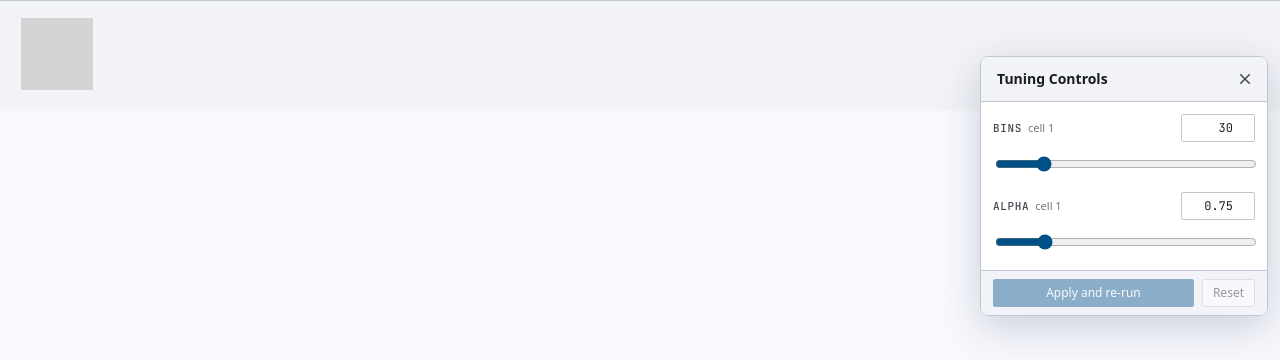
after applying › keeps the plot on screen instead of replacing it with a receipt
Replace the text in the number field named "BINS" with "40": (1218, 128) [1181,114,1255,142]
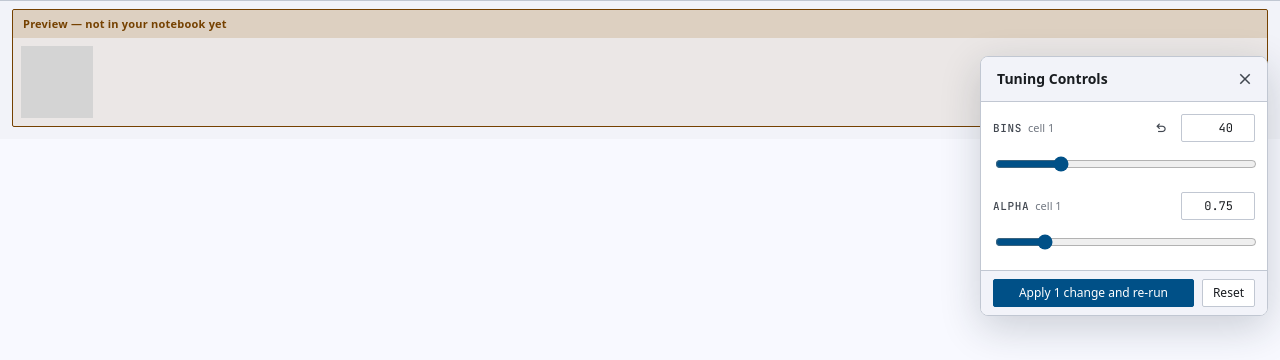
Click the button "Apply 1 change and re-run": (1093, 293) [993,279,1194,307]
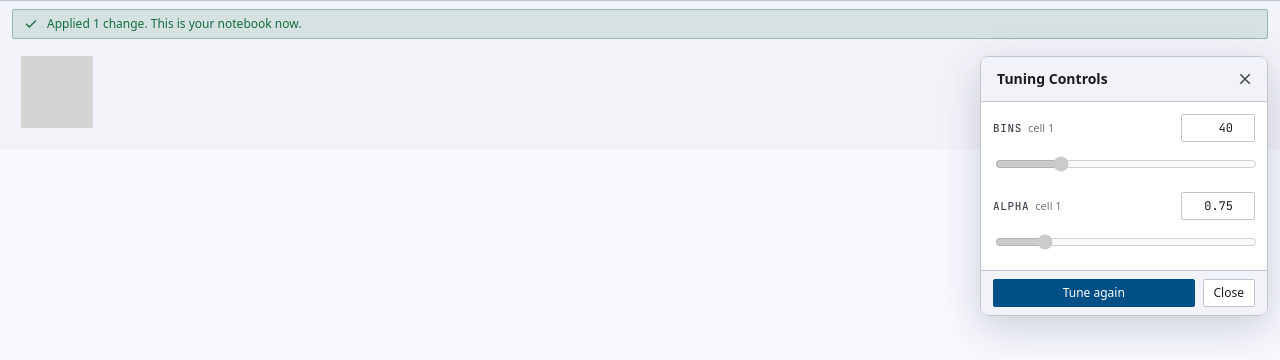
Now the text "Applied 1 change. This is your notebook now." is shown, box [12,9,1268,39]
